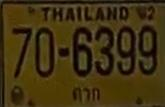0: (34, 26, 54, 76)
3: (94, 26, 113, 75)
6: (72, 26, 91, 76)
7: (11, 27, 31, 77)
9: (116, 26, 135, 74), (138, 24, 156, 74)
TAK: (70, 83, 104, 105)
